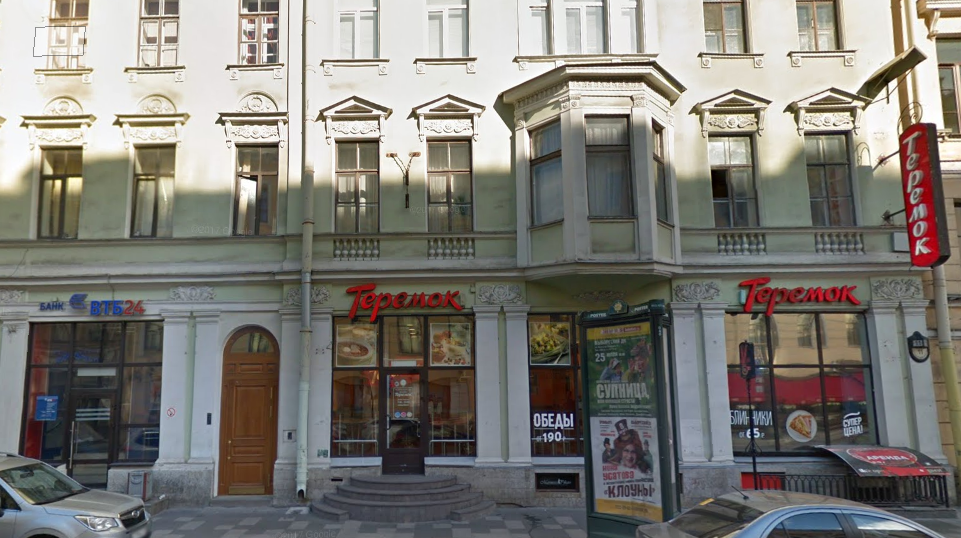cantilever: (875, 98, 954, 275)
door: (216, 352, 278, 499)
signboard: (735, 274, 875, 321), (338, 277, 467, 319), (32, 289, 149, 324)
window: (337, 319, 477, 469), (729, 315, 875, 449), (29, 319, 154, 472), (583, 111, 637, 224), (708, 132, 760, 232), (330, 136, 380, 236), (806, 132, 857, 229), (39, 142, 82, 246), (522, 125, 565, 223), (234, 146, 281, 235), (134, 144, 174, 239), (431, 135, 467, 239), (651, 118, 674, 225)
